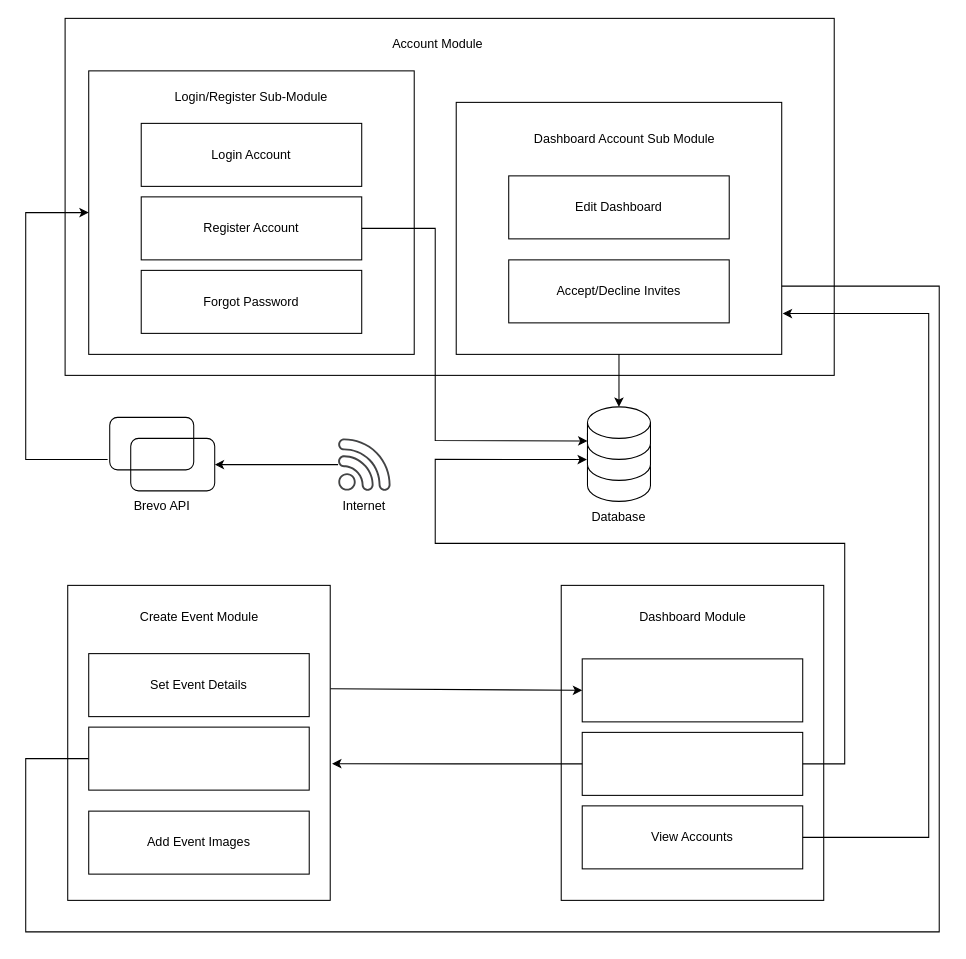
Some shapes in this 966 by 959 pixel diagram are drawn without their labels. Each missing label, with the centre of its shape:
"Add Event" goes at point 692,763.
"Invite Members" goes at point 198,758.
"View Calendar" goes at point 692,690.
